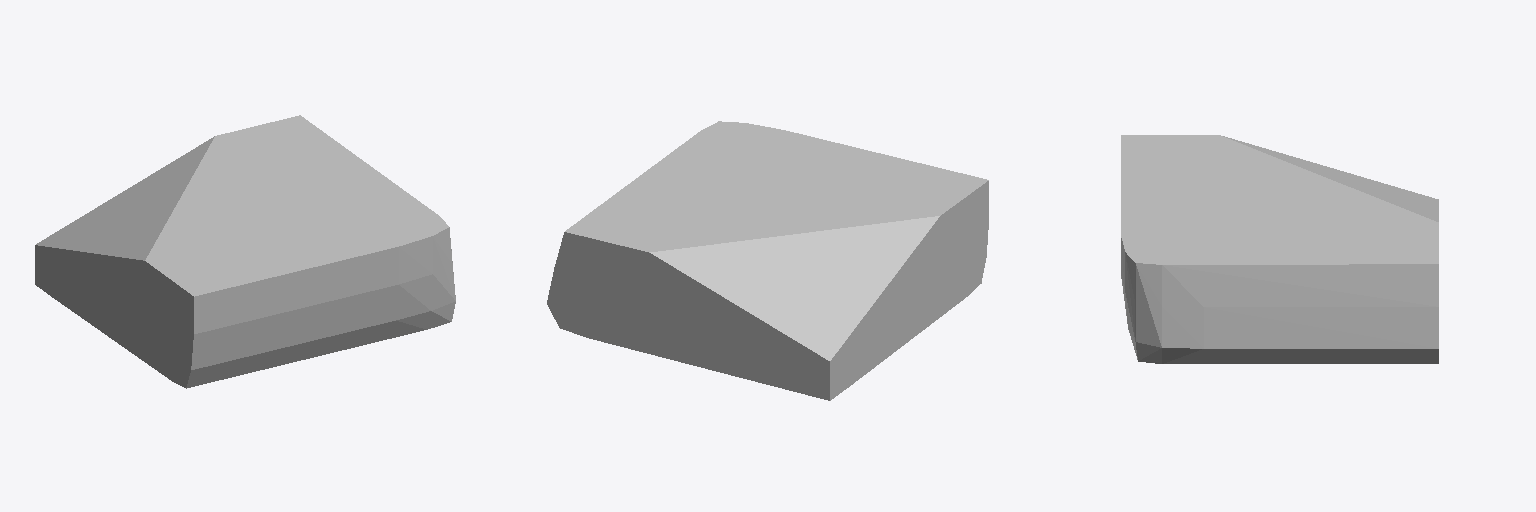
The model's file is ShipScene_collision_12.obj.
3 views of the same model, side by side, from view 1: azimuth 30°, elevation 25°; view 2: azimuth 150°, elevation 25°; view 3: azimuth 270°, elevation 25° (orthographic).
Bounding box in the file's own units: 39.7 × 13.98 × 38.65.